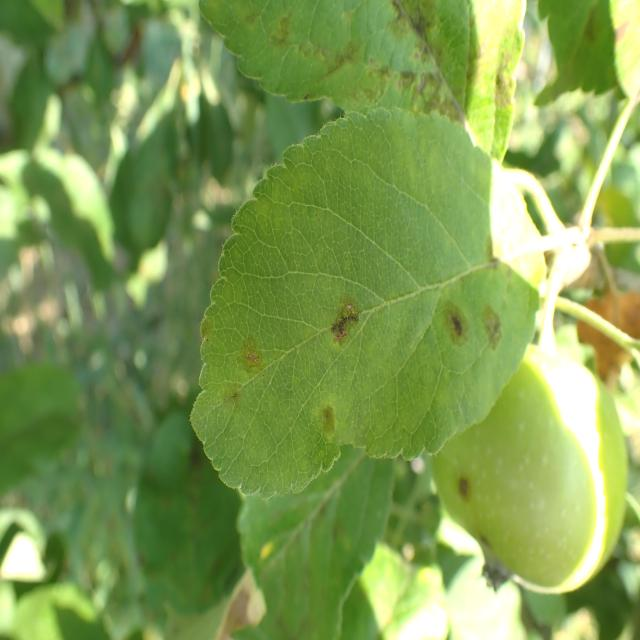scab: (207, 270, 511, 462), (236, 0, 514, 160)
